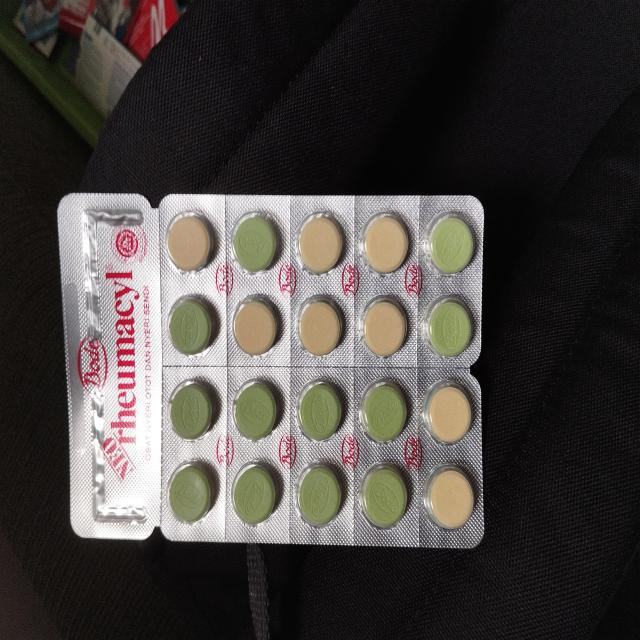B3: (56, 190, 486, 550)
